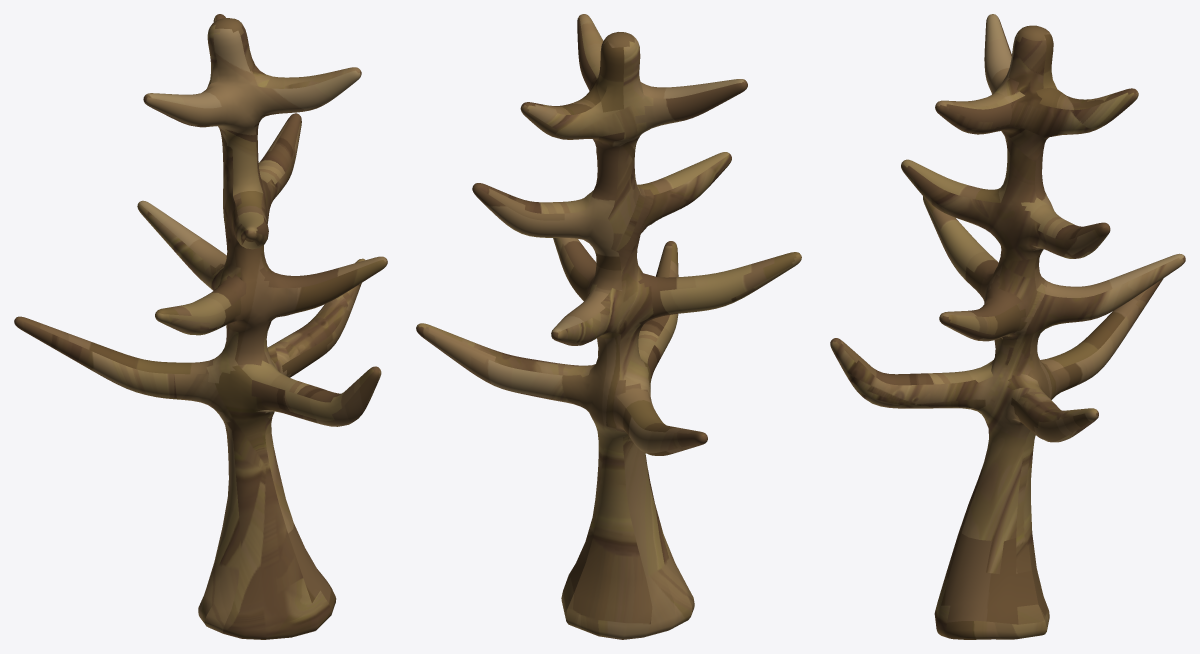
Rendered from Tree2.fbx.
3 views of the same model, side by side, from view 1: azimuth 30°, elevation 25°; view 2: azimuth 150°, elevation 25°; view 3: azimuth 270°, elevation 25° (orthographic). The views are drawn at different scales.
Parts seen in each view (by area): view 1: TreeV2; view 2: TreeV2; view 3: TreeV2.
Part boxes in pixels (<box>): TreeV2: <box>14,14,387,639</box>; TreeV2: <box>416,14,801,639</box>; TreeV2: <box>830,14,1185,639</box>.
Size of the model in its own units: 166 by 295 by 161.
